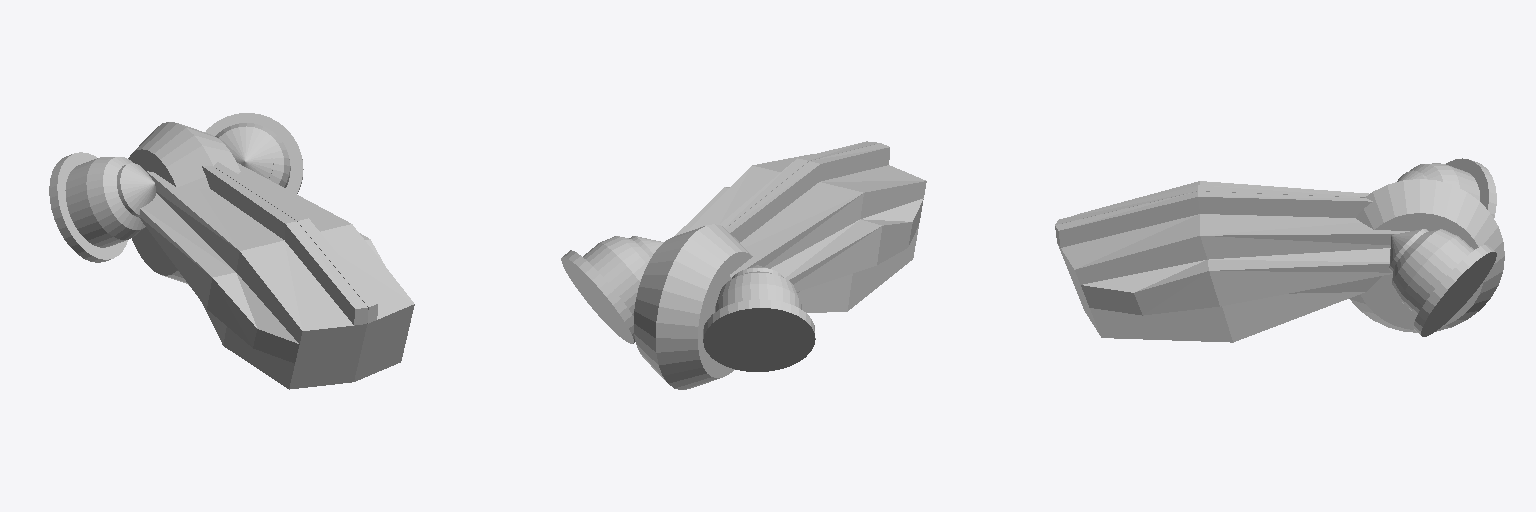
Rendered from cycle_body.obj.
3 renders of one model, left to right at view 1: azimuth 30°, elevation 25°; view 2: azimuth 150°, elevation 25°; view 3: azimuth 270°, elevation 25°, orthographic.
Visible parts, largest first — view 1: Cube_Cube.001; view 2: Cube_Cube.001; view 3: Cube_Cube.001.
Part boxes in pixels (left/top/right/bottom): Cube_Cube.001: left=49, top=113, right=414, bottom=389; Cube_Cube.001: left=561, top=141, right=926, bottom=389; Cube_Cube.001: left=1055, top=158, right=1504, bottom=342.
Bounding box in the file's own units: 4.42 × 2.63 × 6.95.